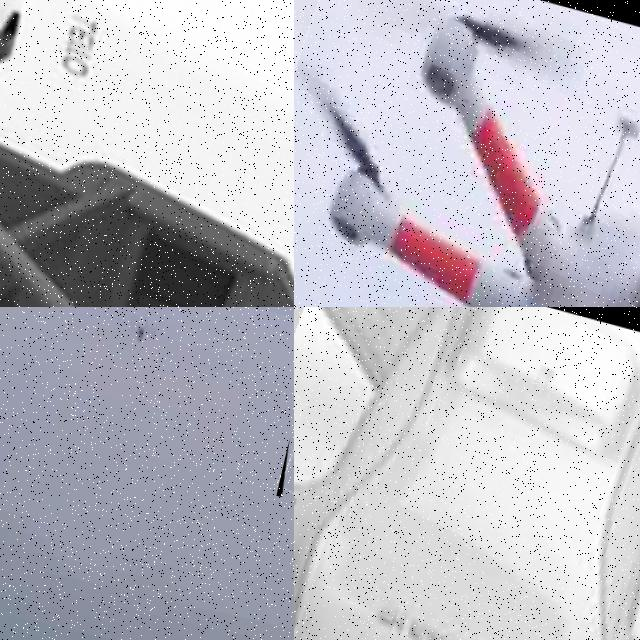drone: (294, 307, 640, 640), (294, 0, 640, 307), (0, 0, 294, 307), (275, 437, 294, 509)
